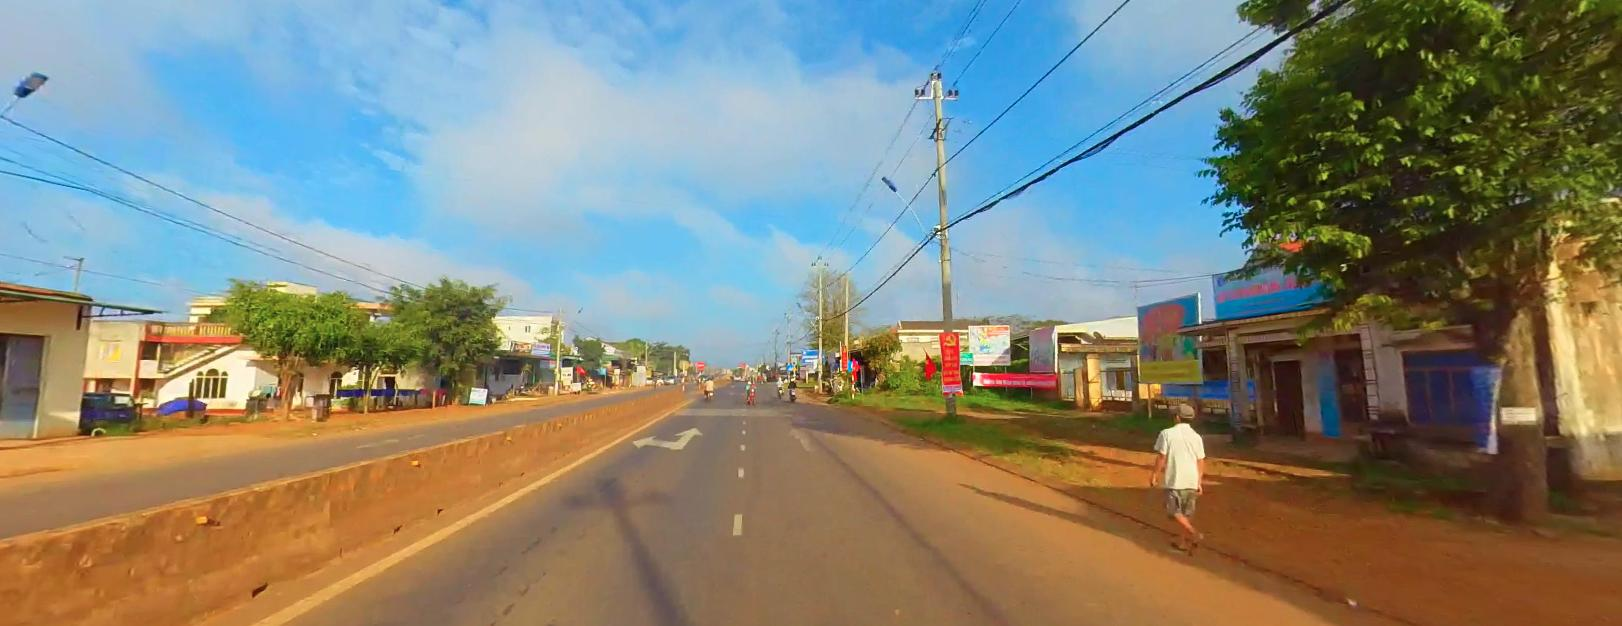Cam nguoc chieu: (695, 359, 705, 368)
